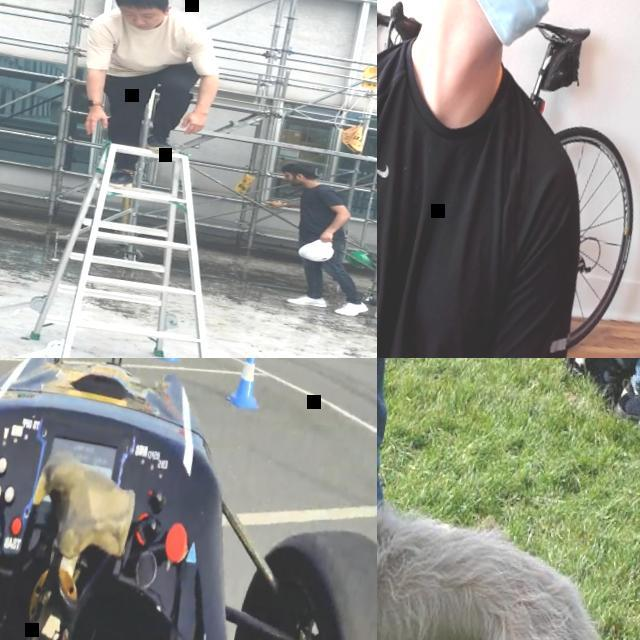Helmet: (296, 229, 341, 268)
Robbery: (374, 0, 586, 356), (79, 0, 230, 175), (270, 148, 370, 349)
